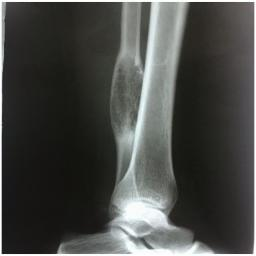cancer: (109, 55, 143, 146)
